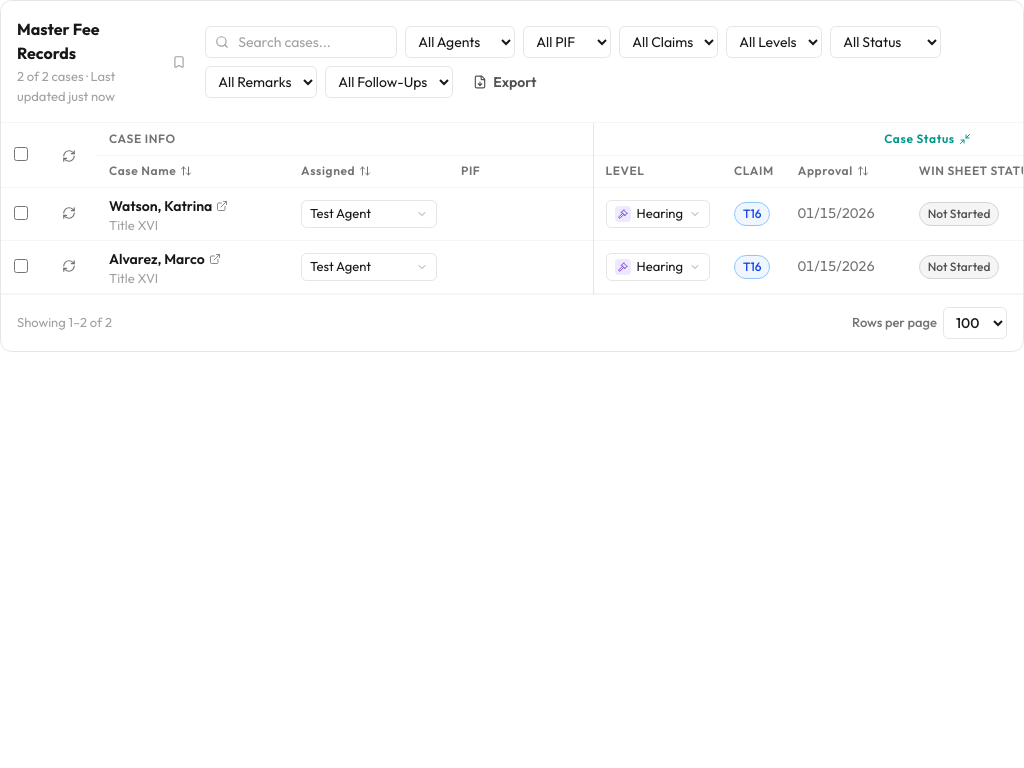
Test: FeeRecordsTable — Add to Fee Petitions batch action › reports cases the server could not add, and keeps the dialog open
This screenshot has width=1024, height=768.
Click the checkbox named "Select Watson, Katrina".
click(21, 212)  # box [14,206,28,220]
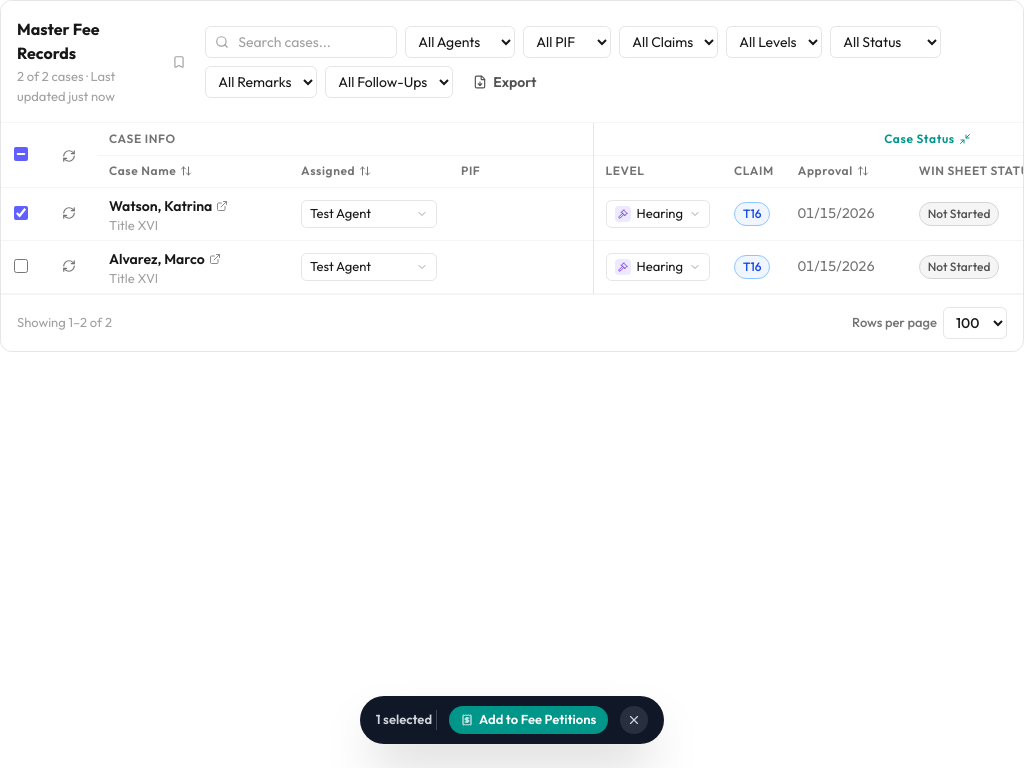
Click the checkbox named "Select Alvarez, Marco".
click(21, 266)  # box [14,258,28,272]
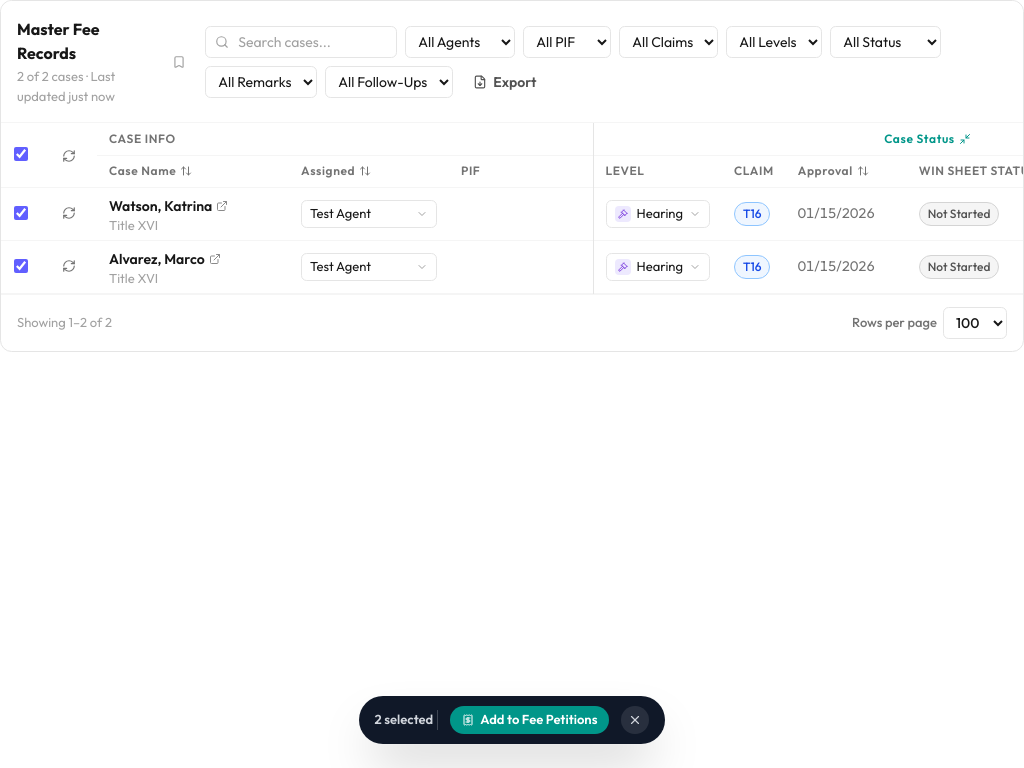
Click the button "Add to Fee Petitions".
click(530, 720)  # box [450,706,610,734]
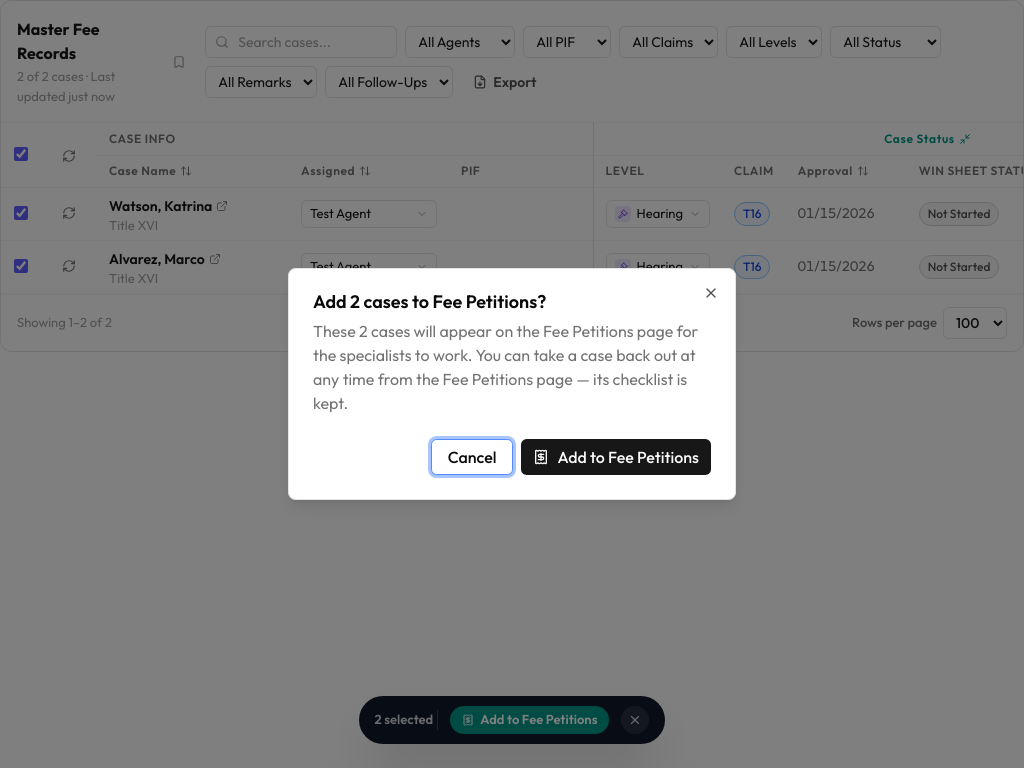
Click the button "Add to Fee Petitions".
click(616, 457)  # box [521,439,711,475]
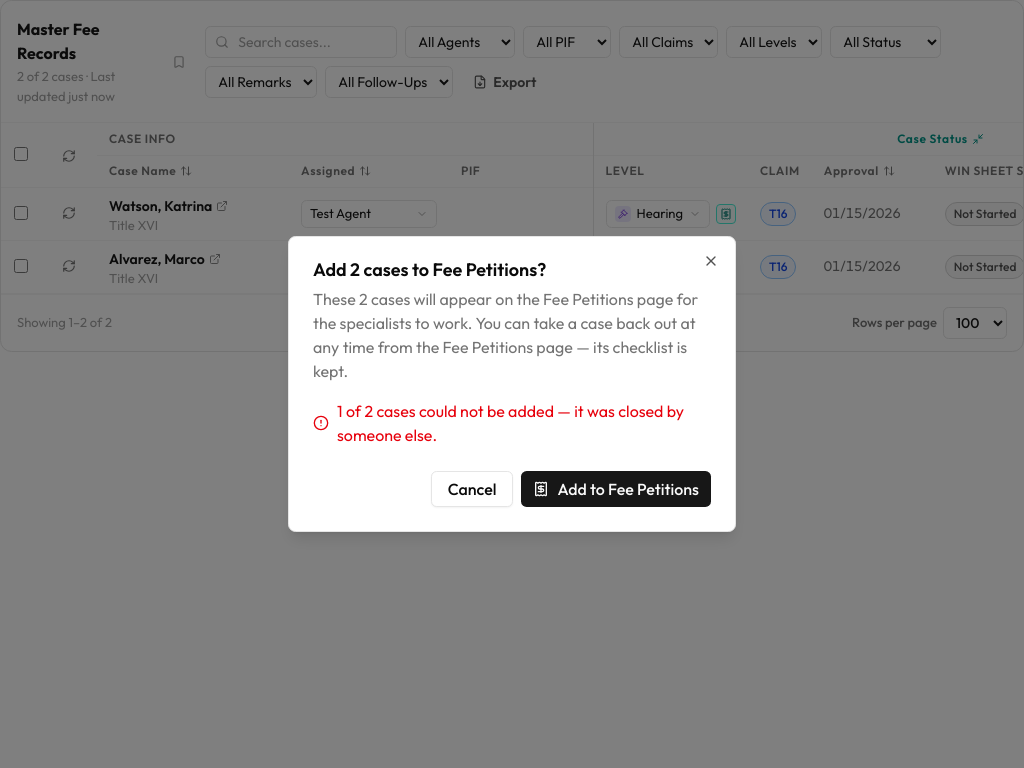
Expected: the dialog is shown, [288,236,736,532]
Expected: the text "1 of 2 cases could not be added — it was closed by someone else." is shown, [313,399,711,447]
